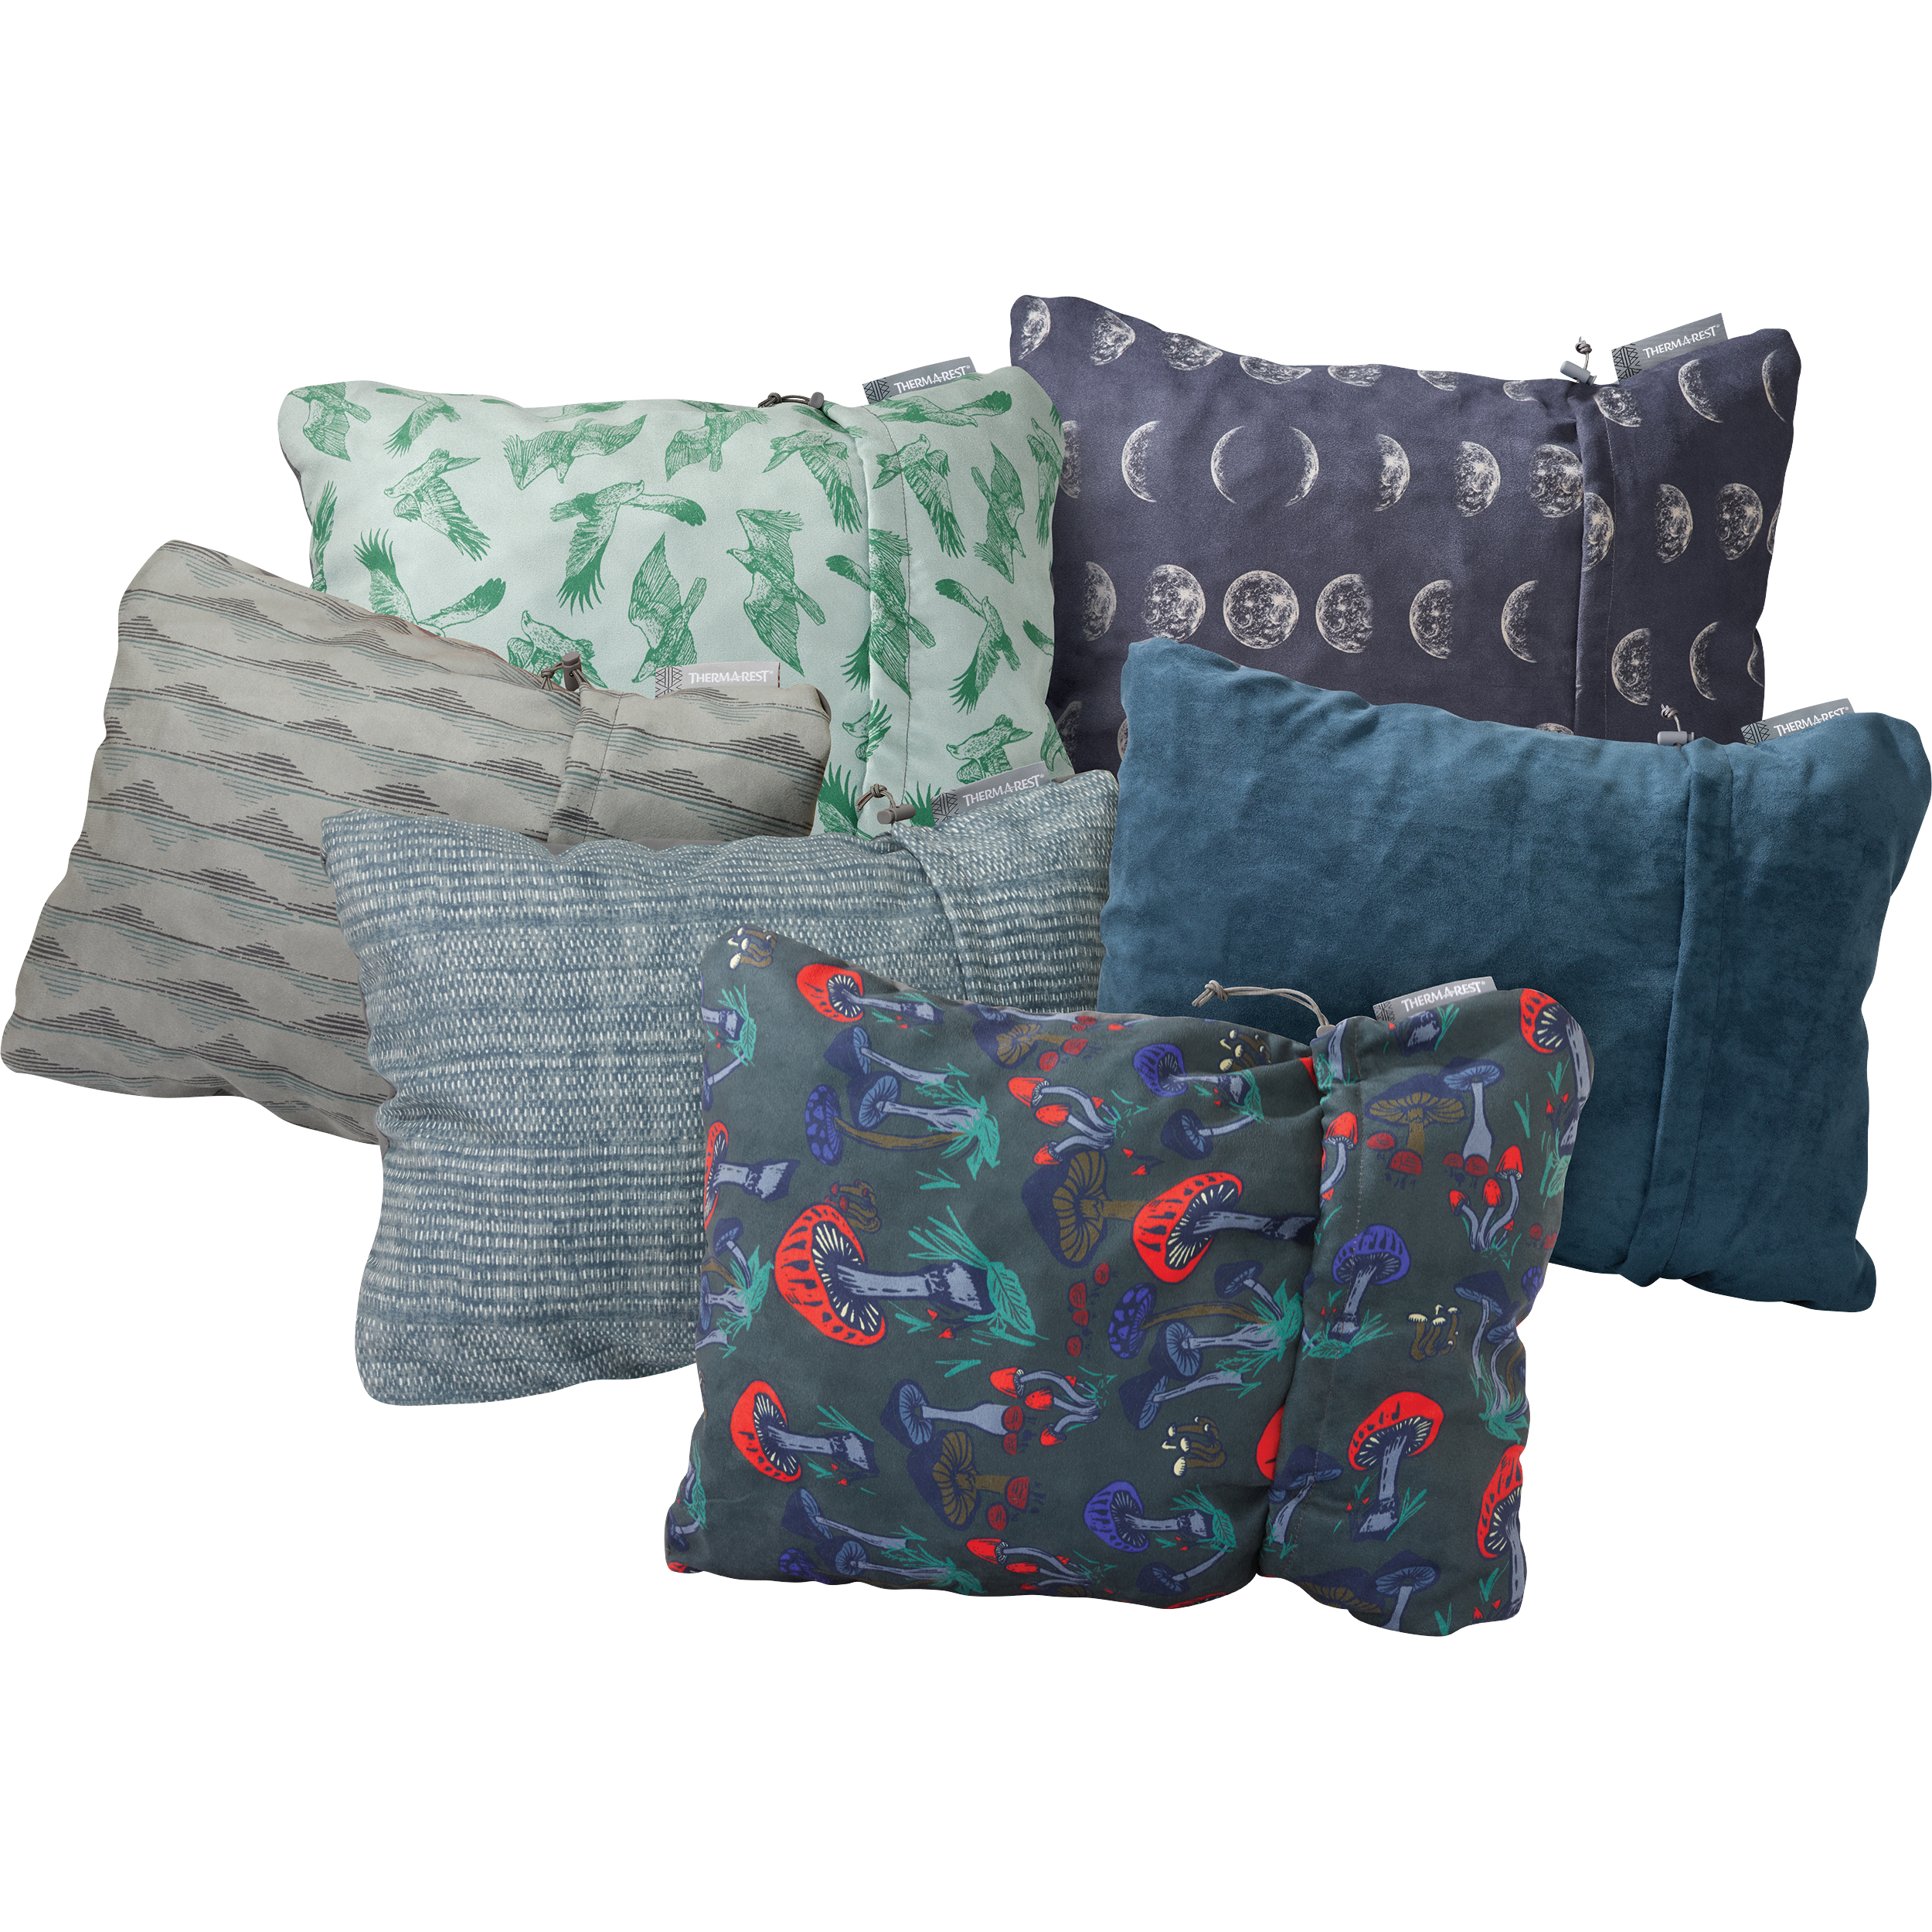bantal: (697, 938, 1539, 1621), (1086, 676, 1927, 1334), (329, 830, 1070, 1445), (1030, 308, 1773, 724), (278, 375, 1063, 697), (25, 541, 389, 1131)
